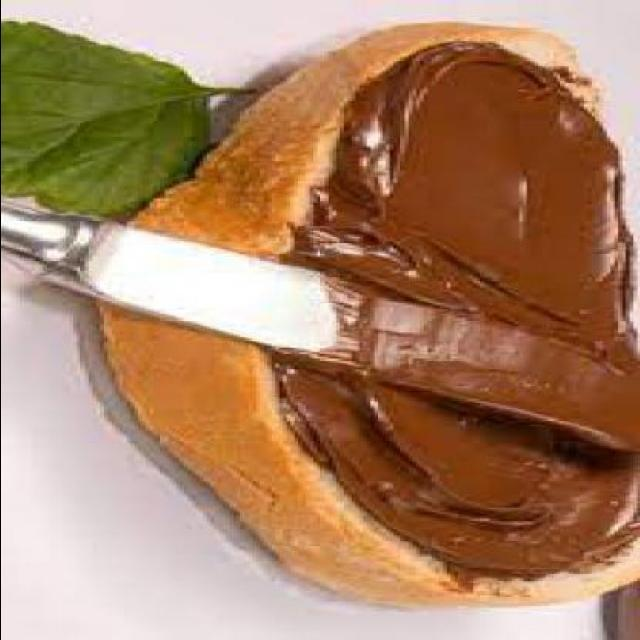Spread: (300, 51, 618, 574)
